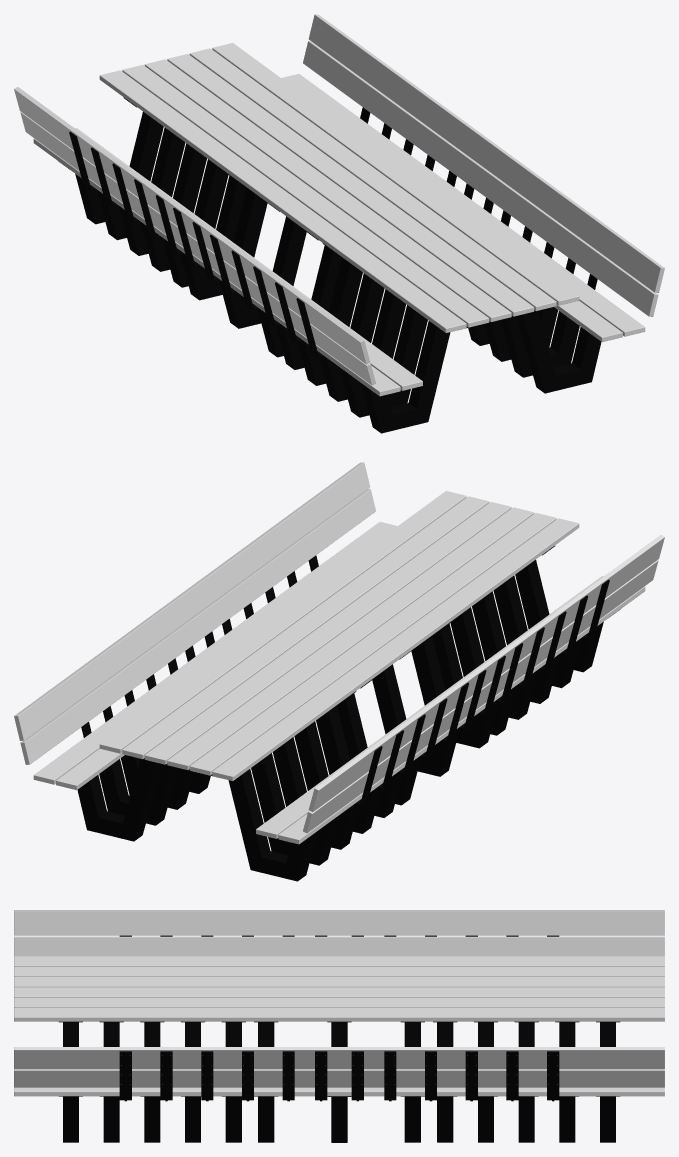
File: angle.glb
3 views of the same model, one above another, from view 1: azimuth 30°, elevation 25°; view 2: azimuth 150°, elevation 25°; view 3: azimuth 270°, elevation 25° (orthographic). The views are drawn at different scales.
Visible parts, largest first — view 1: Table_legs_W, Table_top_W_250, Table_top_W_400, Backrest_W_400, 2benchplanks_W, Backrest_W_350, Backrest_W_250, Backrest_W_300, Table_top_W_300, Backrest_W_200, Backrest_W_160, Table_top_W_350; view 2: Table_legs_W, Table_top_W_250, Table_top_W_400, Backrest_W_400, 2benchplanks_W, Backrest_W_350, Backrest_W_250, Backrest_W_300, Table_top_W_300, Backrest_W_200, Backrest_W_160, Table_top_W_350; view 3: Table_top_W_250, Backrest_W_350, Backrest_W_300, Table_legs_W, Table_top_W_400, Backrest_W_400, Backrest_W_160, 2benchplanks_W, Table_top_W_300, Table_top_W_350, Backrest_W_200, Backrest_W_250 (+1 smaller).
Part boxes in pixels (x1=…): Table_legs_W: x1=58, y1=97, x2=601, y2=433; Table_top_W_250: x1=164, y1=90, x2=513, y2=280; Table_top_W_400: x1=99, y1=43, x2=579, y2=332; Backrest_W_400: x1=14, y1=14, x2=664, y2=385; 2benchplanks_W: x1=33, y1=74, x2=645, y2=396; Backrest_W_350: x1=35, y1=30, x2=642, y2=350; Backrest_W_250: x1=80, y1=62, x2=598, y2=317; Backrest_W_300: x1=57, y1=46, x2=620, y2=352; Table_top_W_300: x1=143, y1=74, x2=531, y2=300; Backrest_W_200: x1=101, y1=104, x2=569, y2=302; Backrest_W_160: x1=126, y1=117, x2=493, y2=284; Table_top_W_350: x1=121, y1=75, x2=491, y2=316; Table_legs_W: x1=77, y1=545, x2=620, y2=881; Table_top_W_250: x1=165, y1=538, x2=513, y2=732; Table_top_W_400: x1=99, y1=491, x2=579, y2=780; Backrest_W_400: x1=14, y1=462, x2=664, y2=833; 2benchplanks_W: x1=33, y1=522, x2=645, y2=844; Backrest_W_350: x1=36, y1=478, x2=643, y2=798; Backrest_W_250: x1=80, y1=510, x2=598, y2=765; Backrest_W_300: x1=58, y1=494, x2=621, y2=800; Table_top_W_300: x1=143, y1=522, x2=534, y2=748; Backrest_W_200: x1=109, y1=552, x2=577, y2=750; Backrest_W_160: x1=126, y1=565, x2=526, y2=733; Table_top_W_350: x1=187, y1=523, x2=533, y2=764; Table_top_W_250: x1=136, y1=956, x2=542, y2=1017; Backrest_W_350: x1=55, y1=910, x2=623, y2=1101; Backrest_W_300: x1=95, y1=910, x2=583, y2=1101; Table_legs_W: x1=59, y1=1021, x2=619, y2=1142; Table_top_W_400: x1=14, y1=956, x2=664, y2=1021; Backrest_W_400: x1=14, y1=910, x2=664, y2=1101; Backrest_W_160: x1=209, y1=935, x2=469, y2=1101; 2benchplanks_W: x1=14, y1=1087, x2=664, y2=1096; Table_top_W_300: x1=95, y1=956, x2=583, y2=1017; Table_top_W_350: x1=55, y1=966, x2=623, y2=1021; Backrest_W_200: x1=177, y1=935, x2=501, y2=1101; Backrest_W_250: x1=136, y1=935, x2=542, y2=1101.
Bounding box in the file's own units: 2.06 × 0.7831 × 4.
3 materials, 1 textured.
